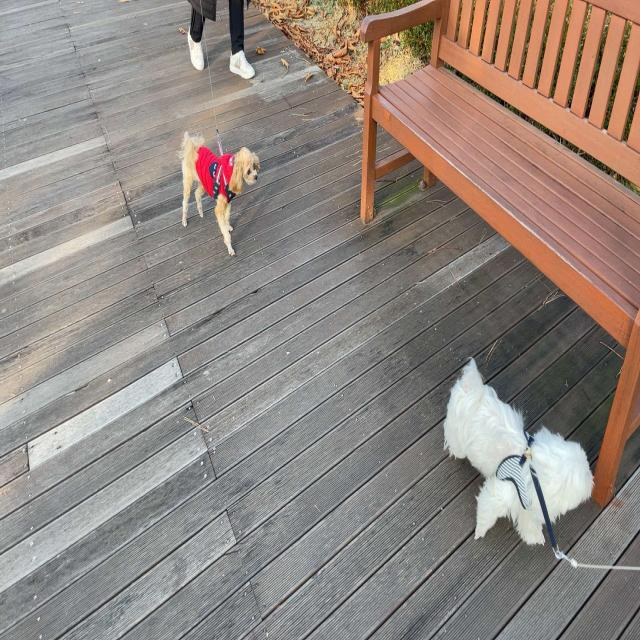Dog: (443, 356, 595, 548), (177, 131, 261, 258)
